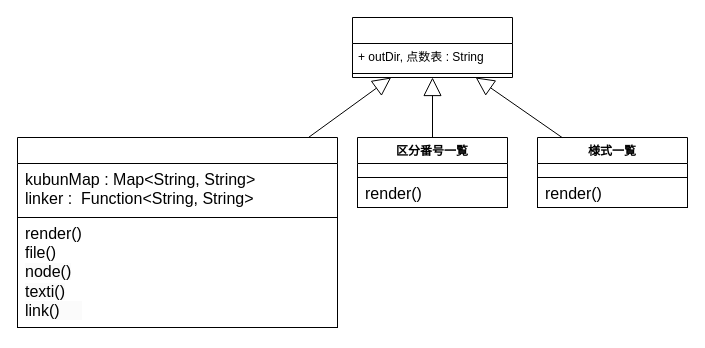
Image size: 705x348. Some labels were removed from this diagram. The box of each missing label's shape, as (x1, y1, x2, y2) in pixels:
HTML: (352, 16, 512, 78)
本文: (16, 136, 338, 328)
